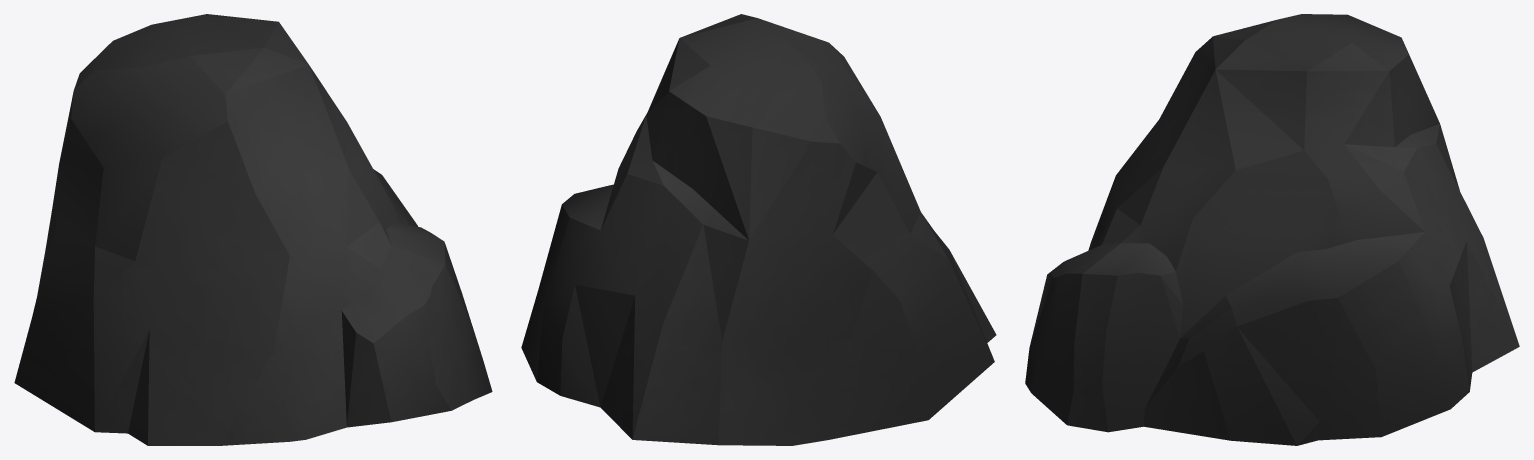
The model's file is Terrain_Rock_2.fbx.
The picture shows the model from 3 angles, left to right: view 1: azimuth 30°, elevation 25°; view 2: azimuth 150°, elevation 25°; view 3: azimuth 270°, elevation 25°; orthographic projection.
Visible parts, largest first — view 1: terrain_mountain_436; view 2: terrain_mountain_436; view 3: terrain_mountain_436.
Part boxes in pixels (x1=…): terrain_mountain_436: x1=14, y1=14, x2=492, y2=445; terrain_mountain_436: x1=521, y1=14, x2=996, y2=445; terrain_mountain_436: x1=1025, y1=14, x2=1519, y2=445.
Bounding box in the file's own units: 972 × 762 × 1057.
Materials: 1 (1 with a texture image).
